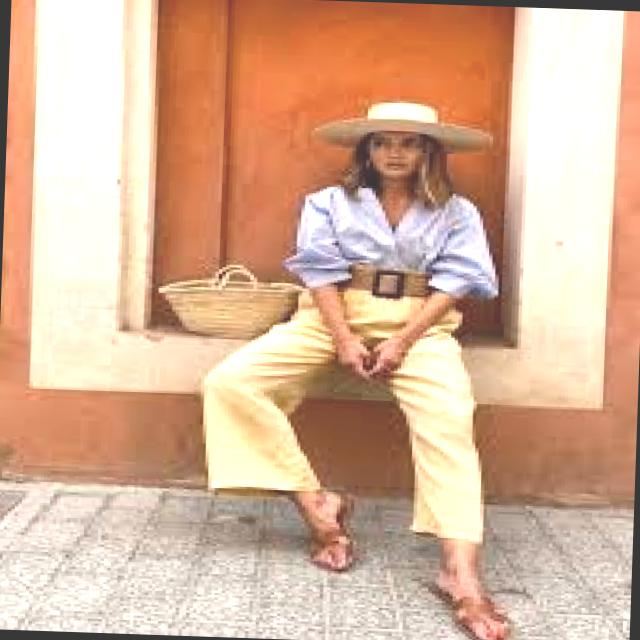hat: (315, 103, 493, 152)
lower-wear: (201, 291, 335, 492)
top-wear: (282, 185, 498, 299)
